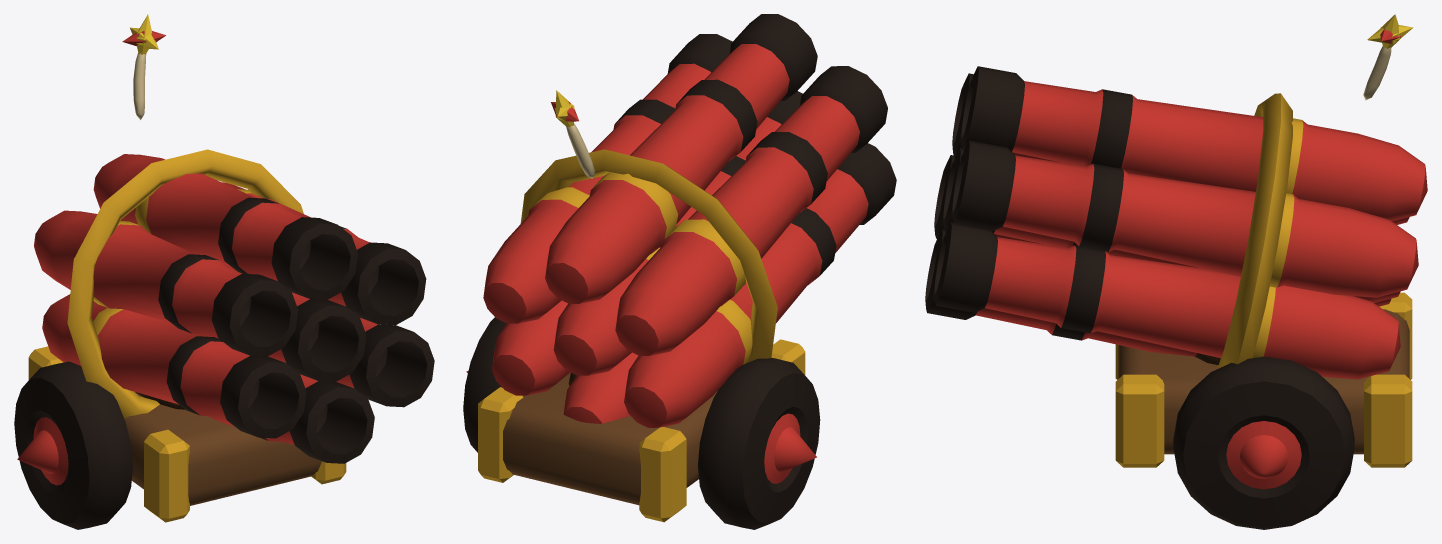
The picture shows the model from 3 angles, left to right: view 1: azimuth 30°, elevation 25°; view 2: azimuth 150°, elevation 25°; view 3: azimuth 270°, elevation 25°; orthographic projection. The views are drawn at different scales.
Parts seen in each view (by area): view 1: bomba_1_torreta, bomba_0_base; view 2: bomba_1_torreta, bomba_0_base; view 3: bomba_1_torreta, bomba_0_base.
Boxes of the visible parts, x1,y1,x2,y2 form: bomba_1_torreta: (34,14,434,463); bomba_0_base: (14,346,346,529); bomba_1_torreta: (483,14,896,427); bomba_0_base: (463,317,820,529); bomba_1_torreta: (925,14,1427,379); bomba_0_base: (1115,292,1412,529).
Bounding box in the file's own units: 0.784 × 0.947 × 0.9313.
